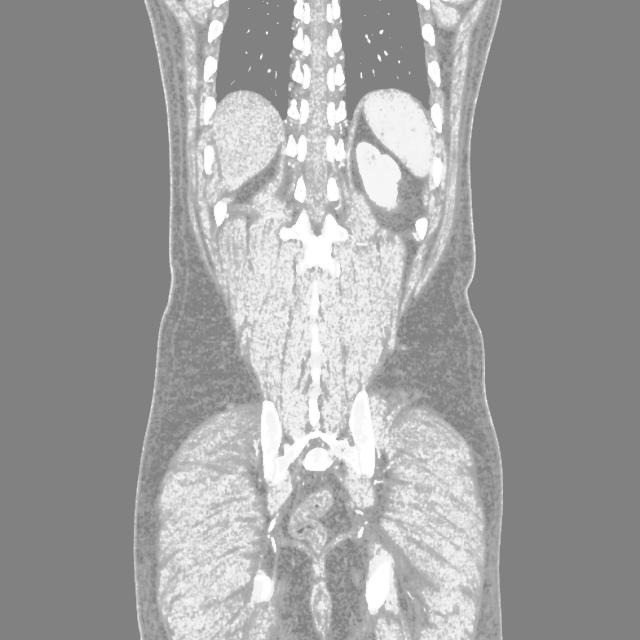NORMAL: (129, 65, 512, 444)
